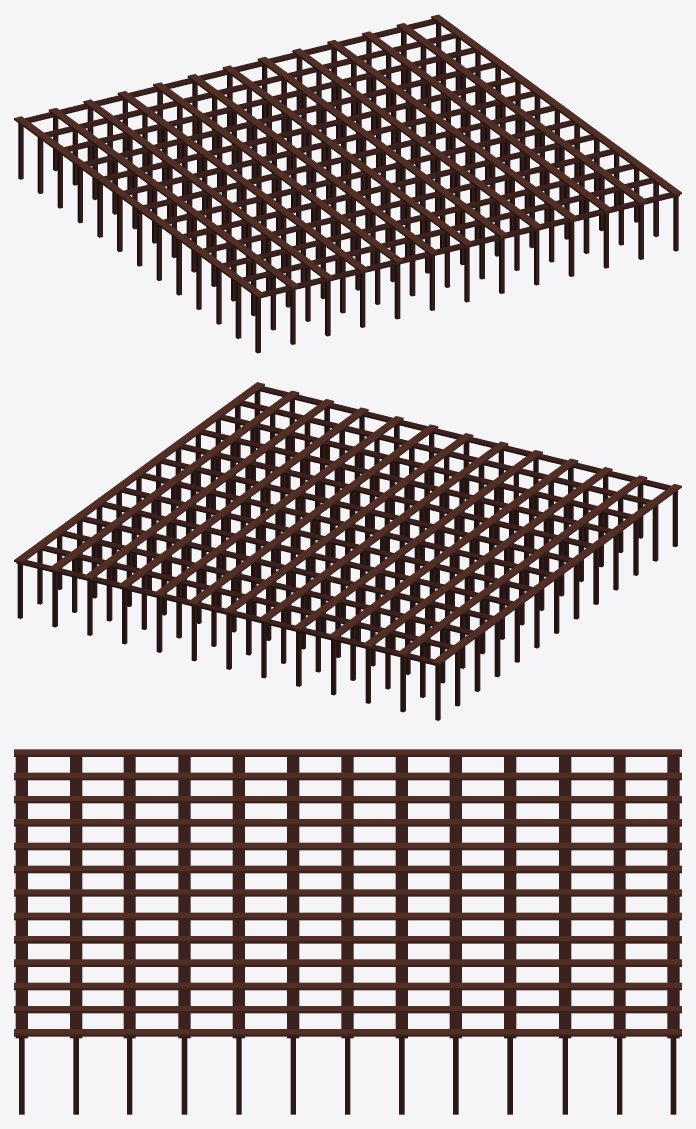
The model's file is buildinggrid.obj.
3 views of the same model, one above another, from view 1: azimuth 30°, elevation 25°; view 2: azimuth 150°, elevation 25°; view 3: azimuth 270°, elevation 25° (orthographic). The views are drawn at different scales.
Parts seen in each view (by area): view 1: Grid.025_Grid.002; view 2: Grid.025_Grid.002; view 3: Grid.025_Grid.002.
Part boxes in pixels (x1=…): Grid.025_Grid.002: x1=14, y1=14, x2=681, y2=353; Grid.025_Grid.002: x1=14, y1=382, x2=681, y2=720; Grid.025_Grid.002: x1=14, y1=749, x2=681, y2=1114.
Bounding box in the file's own units: 2 × 0.2667 × 1.98.
